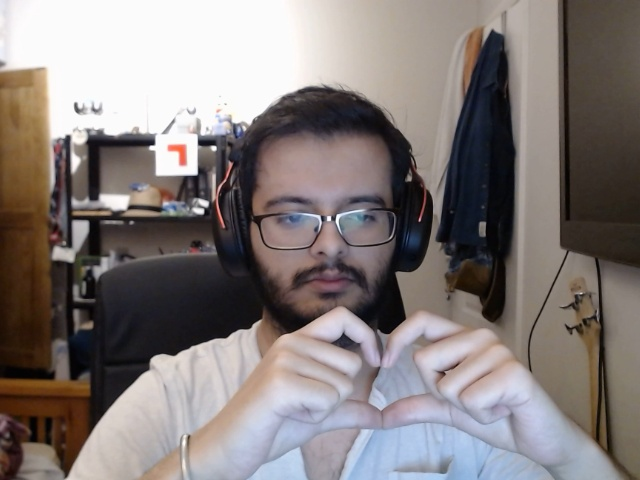Heart: (234, 305, 542, 462)
